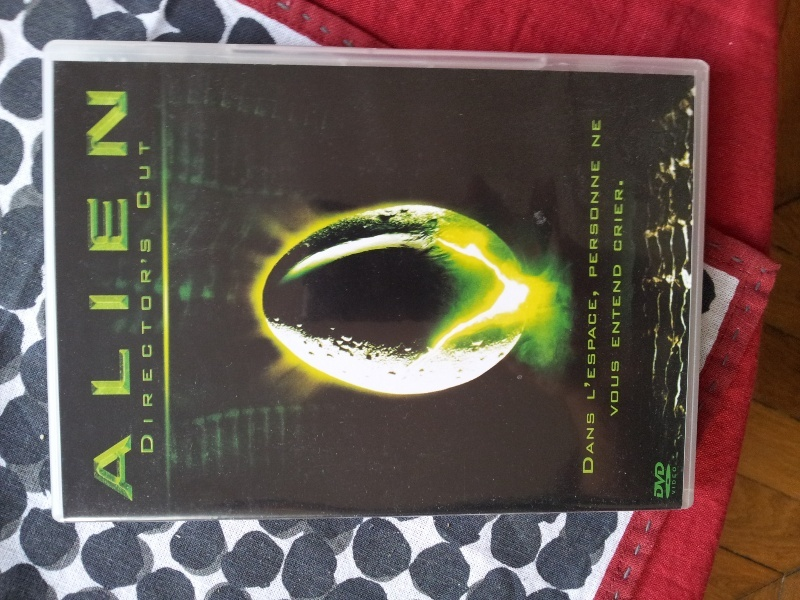text: (97, 92, 112, 505), (113, 92, 128, 505), (87, 92, 96, 505), (129, 92, 136, 505), (145, 234, 156, 458), (611, 262, 624, 350), (593, 158, 602, 278), (609, 357, 624, 420), (584, 286, 592, 402), (140, 234, 144, 458), (593, 286, 600, 402), (614, 176, 624, 254), (145, 141, 153, 211), (583, 412, 592, 474), (137, 141, 144, 211), (588, 158, 592, 278), (673, 466, 688, 495), (657, 462, 666, 500), (593, 117, 603, 149), (593, 412, 597, 474), (625, 176, 626, 254), (590, 117, 592, 149), (655, 462, 656, 500)
